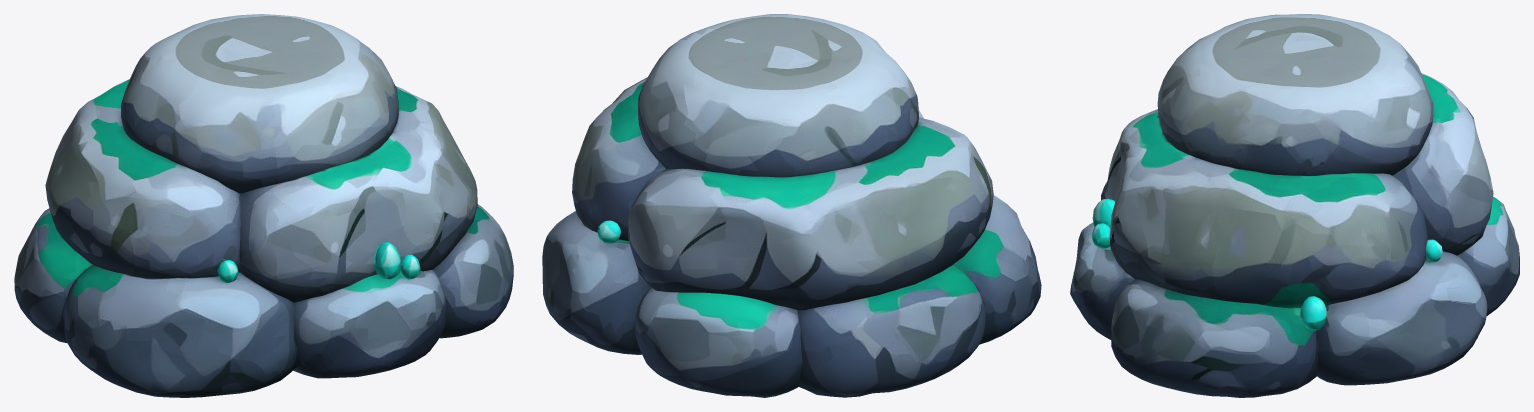
Rendered from la_roca_cueva.glb.
3 renders of one model, left to right at view 1: azimuth 30°, elevation 25°; view 2: azimuth 150°, elevation 25°; view 3: azimuth 270°, elevation 25°, orthographic.
Bounding box in the file's own units: 1 × 0.5918 × 0.9336.
Materials: 1 (1 with a texture image).
